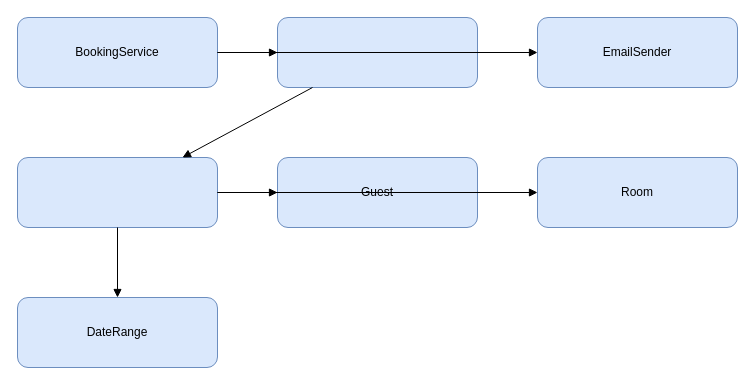
This 755x385 diagram has some shape labels left out. Each missing label, with the centre of its shape:
"Reservation" goes at (x=117, y=192).
"ReservationStore" goes at (x=377, y=52).
